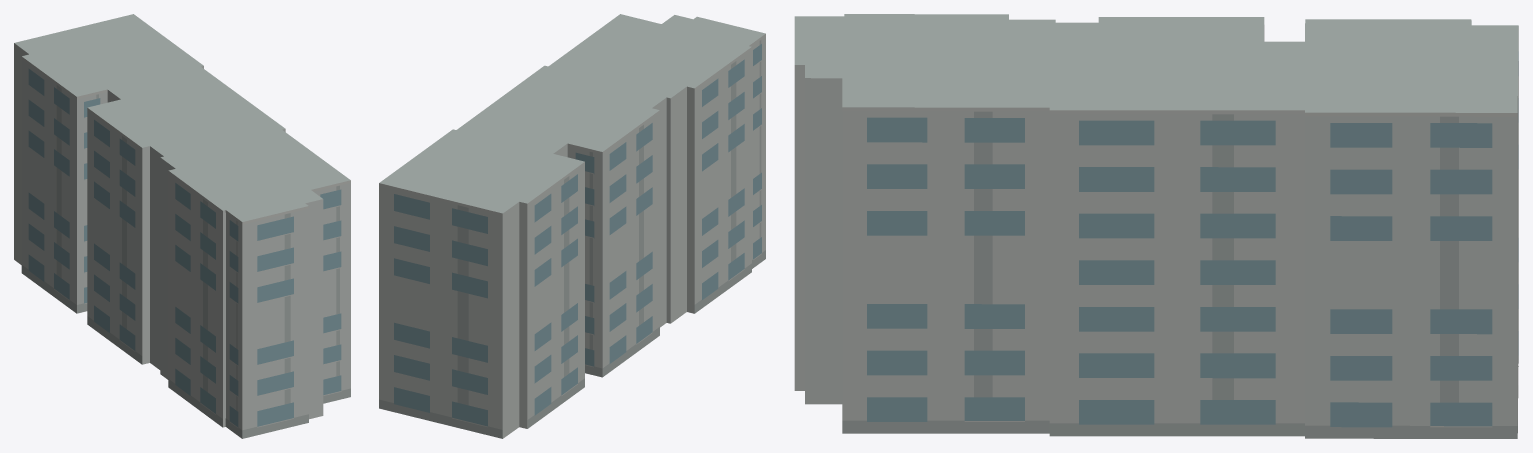
File: survey-upis-32846363.glb
3 renders of one model, left to right at view 1: azimuth 30°, elevation 25°; view 2: azimuth 150°, elevation 25°; view 3: azimuth 270°, elevation 25°, orthographic. The views are drawn at different scales.
Visible parts, largest first — view 1: survey-upis-32846363.tmp; view 2: survey-upis-32846363.tmp; view 3: survey-upis-32846363.tmp.
Part boxes in pixels (x1,y1,x2,y2): survey-upis-32846363.tmp: [14, 14, 350, 438]; survey-upis-32846363.tmp: [379, 14, 765, 438]; survey-upis-32846363.tmp: [794, 14, 1518, 438].
Size of the model in its own units: 12.96 by 19.9 by 40.07.
